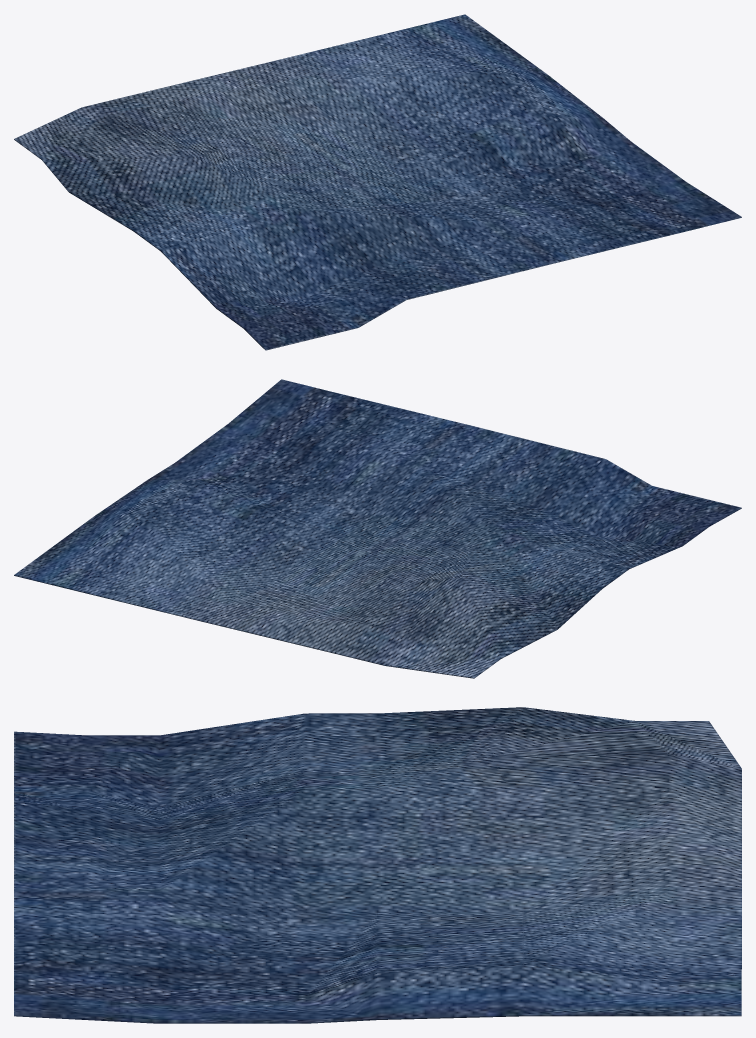
Rendered from jean clothes.fbx.
3 renders of one model, top to bottom at view 1: azimuth 30°, elevation 25°; view 2: azimuth 150°, elevation 25°; view 3: azimuth 270°, elevation 25°, orthographic. The views are drawn at different scales.
Parts seen in each view (by area): view 1: tissue1; view 2: tissue1; view 3: tissue1.
Boxes of the visible parts, x1,y1,x2,y2 form: tissue1: [14, 14, 741, 350]; tissue1: [14, 379, 741, 678]; tissue1: [14, 707, 741, 1023].
Size of the model in its own units: 0.3809 by 0.0353 by 0.3808.
